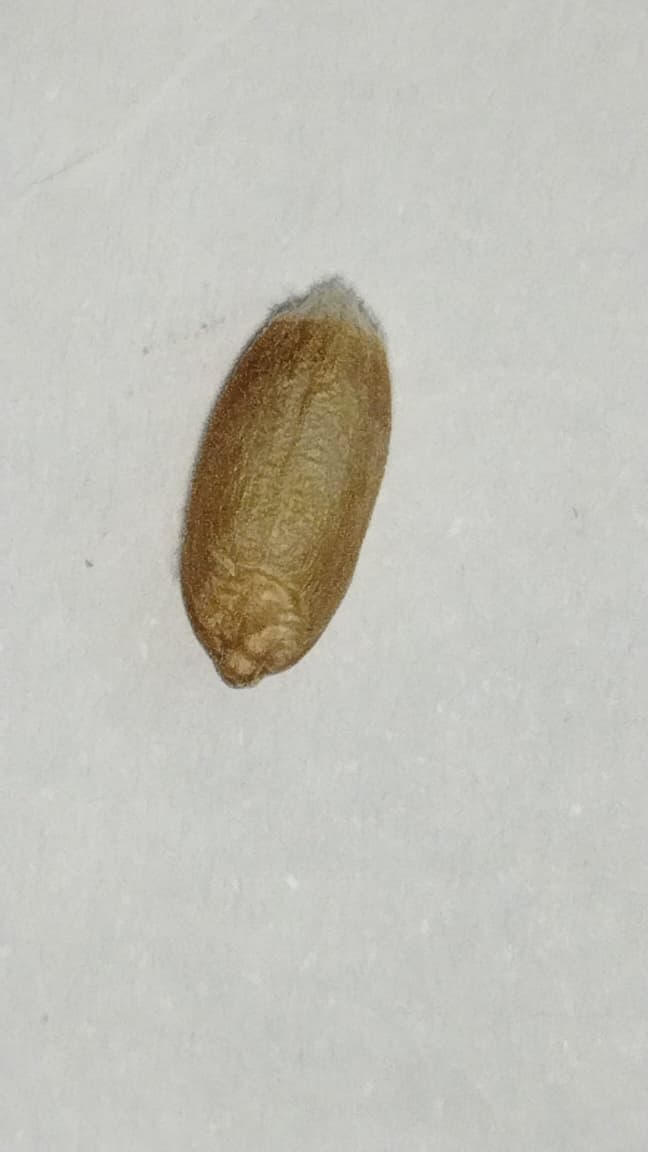healthy: (181, 298, 389, 685)
